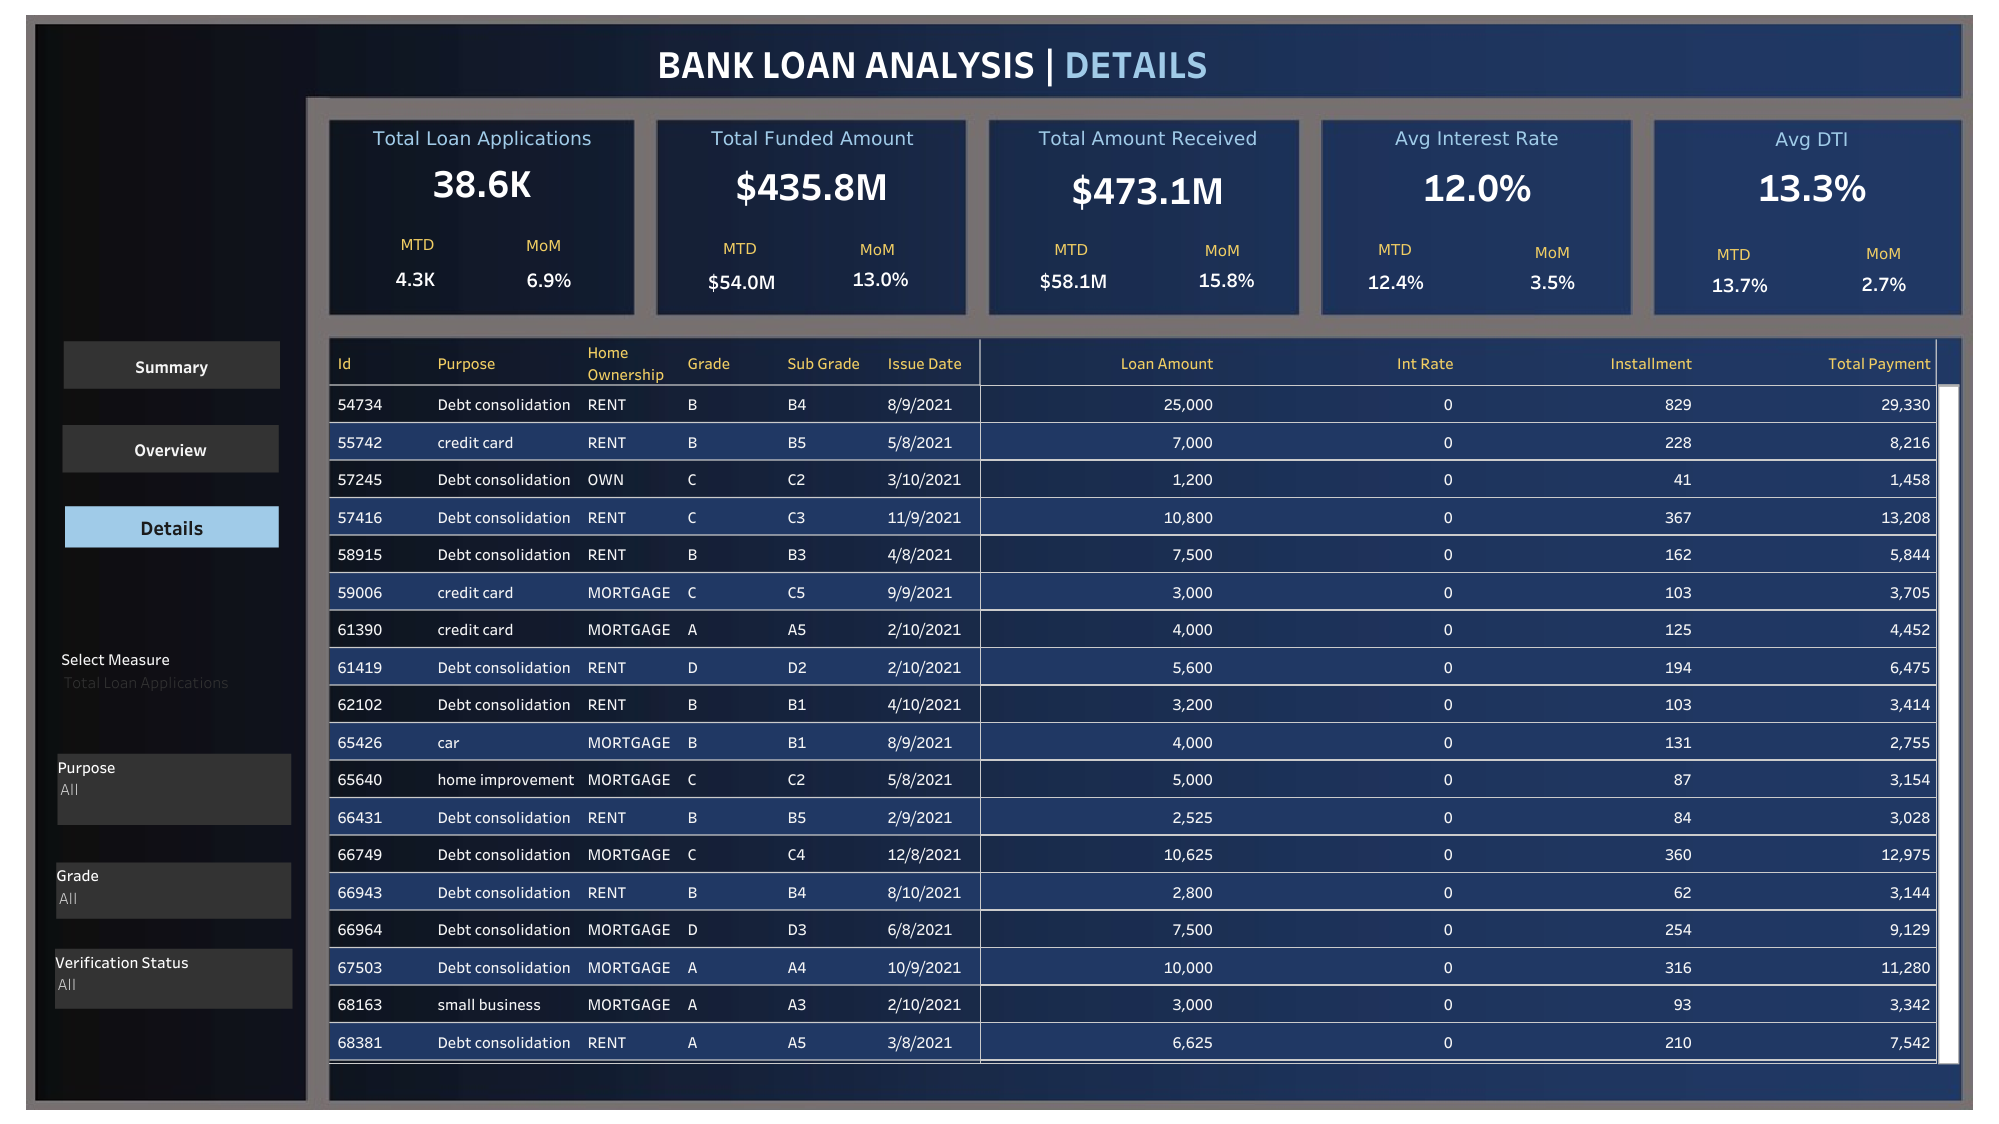

The dashboard page shown, as its layout file describes it:
{"tool":"tableau","page":{"name":"DETAILS","canvas":[1600,900],"ordinal":0},"visuals":[{"type":"image","param":"Image/Tableau Background 3.jpg","box":[8,8,1584,884]},{"type":"text","box":[523,15,591,70]},{"type":"worksheet","title":"Total Loan Applications","mark":"Automatic","box":[266,96,240,68]},{"type":"worksheet","title":"Total Funded Amount","mark":"Automatic","box":[526,96,248,71]},{"type":"worksheet","title":"Total Amount Received","mark":"Automatic","box":[795,96,247,77]},{"type":"worksheet","title":"Avg Interest Rate","mark":"Automatic","box":[1058,96,247,73]},{"type":"worksheet","title":"Avg DTI","mark":"Automatic","box":[1322,97,255,70]},{"type":"text","box":[284,180,100,30]},{"type":"text","box":[385,181,100,30]},{"type":"text","box":[542,183,100,30]},{"type":"text","box":[652,184,100,30]},{"type":"text","box":[807,184,100,30]},{"type":"text","box":[1066,184,100,30]},{"type":"text","box":[928,185,100,30]},{"type":"text","box":[1192,186,100,30]},{"type":"text","box":[1457,187,100,30]},{"type":"text","box":[1337,188,100,30]},{"type":"worksheet","title":"MTD Avg DTI","mark":"Automatic","box":[1330,198,125,58]},{"type":"worksheet","title":"MTD Total Funded Amount ","mark":"Automatic","box":[554,199,79,51]},{"type":"worksheet","title":"MoM Total Funded Amount","mark":"Automatic","box":[652,200,106,46]},{"type":"worksheet","title":"MTD Avg INT Rate","mark":"Automatic","box":[1067,202,100,46]},{"type":"worksheet","title":"MTD Total Loan Applications","mark":"Automatic","box":[266,205,134,36]},{"type":"worksheet","title":"MTD Total Amount Received","mark":"Automatic","box":[817,206,86,36]},{"type":"worksheet","title":"MoM Avg Int Rate","mark":"Automatic","box":[1191,207,103,36]},{"type":"worksheet","title":"MoM Avg DTI","mark":"Automatic","box":[1463,208,88,38]},{"type":"worksheet","title":"MoM Total Amount Received","mark":"Automatic","box":[937,209,89,30]},{"type":"worksheet","title":"MoM Loan Applications","mark":"Automatic","box":[399,214,81,18]},{"type":"worksheet","title":"Details Tab","mark":"Automatic","rows":["id","purpose","home_ownership","grade","sub_grade","issue_date"],"box":[264,272,1304,580]},{"type":"dashboard-object","box":[51,273,173,38]},{"type":"dashboard-object","box":[50,340,173,38]},{"type":"dashboard-object","box":[52,405,171,33]},{"type":"parameter","param":"[Parameters].[Parameter 1]","box":[49,517,181,55]},{"type":"filter","title":"Avg DTI","param":"[federated.15s4aif1ggkyga19rxjmh1us535x].[none:purpose:nk]","box":[46,603,187,57]},{"type":"filter","title":"Avg DTI","param":"[federated.15s4aif1ggkyga19rxjmh1us535x].[none:grade:nk]","box":[45,690,188,45]},{"type":"filter","title":"Avg DTI","param":"[federated.15s4aif1ggkyga19rxjmh1us535x].[none:verification_status:nk]","box":[44,759,190,48]}]}

Visuals, with their boxes in screenshot pixels (x1, y1, x2, y2), scaled from the page's 1600x900 canvas onto the 1999x1124 screenshot:
image: (x1=10, y1=10, x2=1989, y2=1114)
text: (x1=653, y1=19, x2=1392, y2=106)
"Total Loan Applications" worksheet: (x1=332, y1=120, x2=632, y2=205)
"Total Funded Amount" worksheet: (x1=657, y1=120, x2=967, y2=209)
"Total Amount Received" worksheet: (x1=993, y1=120, x2=1302, y2=216)
"Avg Interest Rate" worksheet: (x1=1322, y1=120, x2=1630, y2=211)
"Avg DTI" worksheet: (x1=1652, y1=121, x2=1970, y2=209)
text: (x1=355, y1=225, x2=480, y2=262)
text: (x1=481, y1=226, x2=606, y2=264)
text: (x1=677, y1=229, x2=802, y2=266)
text: (x1=815, y1=230, x2=940, y2=267)
text: (x1=1008, y1=230, x2=1133, y2=267)
text: (x1=1332, y1=230, x2=1457, y2=267)
text: (x1=1159, y1=231, x2=1284, y2=269)
text: (x1=1489, y1=232, x2=1614, y2=270)
text: (x1=1820, y1=234, x2=1945, y2=271)
text: (x1=1670, y1=235, x2=1795, y2=272)
"MTD Avg DTI" worksheet: (x1=1662, y1=247, x2=1818, y2=320)
"MTD Total Funded Amount " worksheet: (x1=692, y1=249, x2=791, y2=312)
"MoM Total Funded Amount" worksheet: (x1=815, y1=250, x2=947, y2=307)
"MTD Avg INT Rate" worksheet: (x1=1333, y1=252, x2=1458, y2=310)
"MTD Total Loan Applications" worksheet: (x1=332, y1=256, x2=500, y2=301)
"MTD Total Amount Received" worksheet: (x1=1021, y1=257, x2=1128, y2=302)
"MoM Avg Int Rate" worksheet: (x1=1488, y1=259, x2=1617, y2=303)
"MoM Avg DTI" worksheet: (x1=1828, y1=260, x2=1938, y2=307)
"MoM Total Amount Received" worksheet: (x1=1171, y1=261, x2=1282, y2=298)
"MoM Loan Applications" worksheet: (x1=499, y1=267, x2=600, y2=290)
"Details Tab" worksheet: (x1=330, y1=340, x2=1959, y2=1064)
dashboard-object: (x1=64, y1=341, x2=280, y2=388)
dashboard-object: (x1=62, y1=425, x2=279, y2=472)
dashboard-object: (x1=65, y1=506, x2=279, y2=547)
parameter: (x1=61, y1=646, x2=287, y2=714)
"Avg DTI" filter: (x1=57, y1=753, x2=291, y2=824)
"Avg DTI" filter: (x1=56, y1=862, x2=291, y2=918)
"Avg DTI" filter: (x1=55, y1=948, x2=292, y2=1008)
